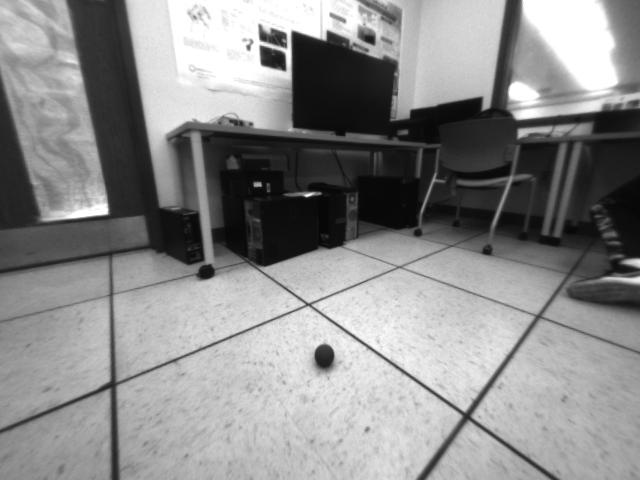dogtoy: (309, 339, 344, 372)
